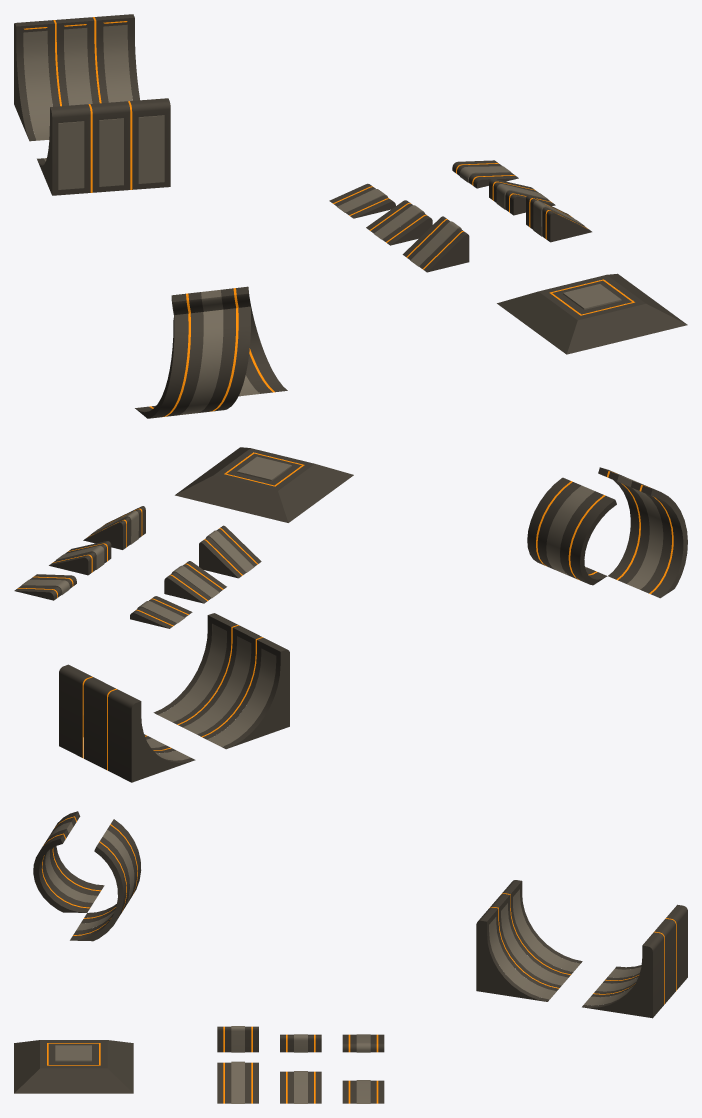
The model's file is playgroundVisual.glb.
3 views of the same model, one above another, from view 1: azimuth 30°, elevation 25°; view 2: azimuth 150°, elevation 25°; view 3: azimuth 270°, elevation 25° (orthographic). The views are drawn at different scales.
Parts seen in each view (by area): view 1: Cube.040, Circle.001, Cube.007, Cube.025, Cube.019, Cube.028, Cube.026, Cube.027, Cube.029; view 2: Cube.040, Circle.001, Cube.007, Cube.025, Cube.019, Cube.028, Cube.027, Cube.026, Cube.029; view 3: Cube.040, Circle.001, Cube.007, Cube.028, Cube.027, Cube.025, Cube.029, Cube.026, Cube.019.
Boxes of the visible parts, x1=… form: Cube.040: x1=14, y1=14, x2=170, y2=195; Circle.001: x1=135, y1=286, x2=287, y2=418; Cube.007: x1=497, y1=273, x2=687, y2=354; Cube.025: x1=402, y1=216, x2=469, y2=272; Cube.019: x1=366, y1=200, x2=432, y2=245; Cube.028: x1=526, y1=195, x2=591, y2=242; Cube.026: x1=329, y1=183, x2=395, y2=218; Cube.027: x1=489, y1=179, x2=555, y2=215; Cube.029: x1=452, y1=160, x2=518, y2=188; Cube.040: x1=59, y1=613, x2=289, y2=782; Circle.001: x1=527, y1=467, x2=687, y2=598; Cube.007: x1=175, y1=447, x2=353, y2=522; Cube.025: x1=199, y1=525, x2=261, y2=578; Cube.019: x1=164, y1=561, x2=226, y2=603; Cube.028: x1=83, y1=506, x2=145, y2=549; Cube.027: x1=49, y1=541, x2=111, y2=575; Cube.026: x1=130, y1=596, x2=192, y2=628; Cube.029: x1=14, y1=574, x2=76, y2=600; Cube.040: x1=476, y1=880, x2=687, y2=1018; Circle.001: x1=33, y1=811, x2=141, y2=941; Cube.007: x1=14, y1=1040, x2=133, y2=1093; Cube.028: x1=217, y1=1061, x2=258, y2=1103; Cube.027: x1=280, y1=1071, x2=321, y2=1103; Cube.025: x1=217, y1=1026, x2=258, y2=1052; Cube.029: x1=342, y1=1080, x2=384, y2=1103; Cube.026: x1=342, y1=1034, x2=384, y2=1052; Cube.019: x1=280, y1=1034, x2=321, y2=1052.
Bounding box in the file's own units: 49.59 × 8.89 × 64.5.
